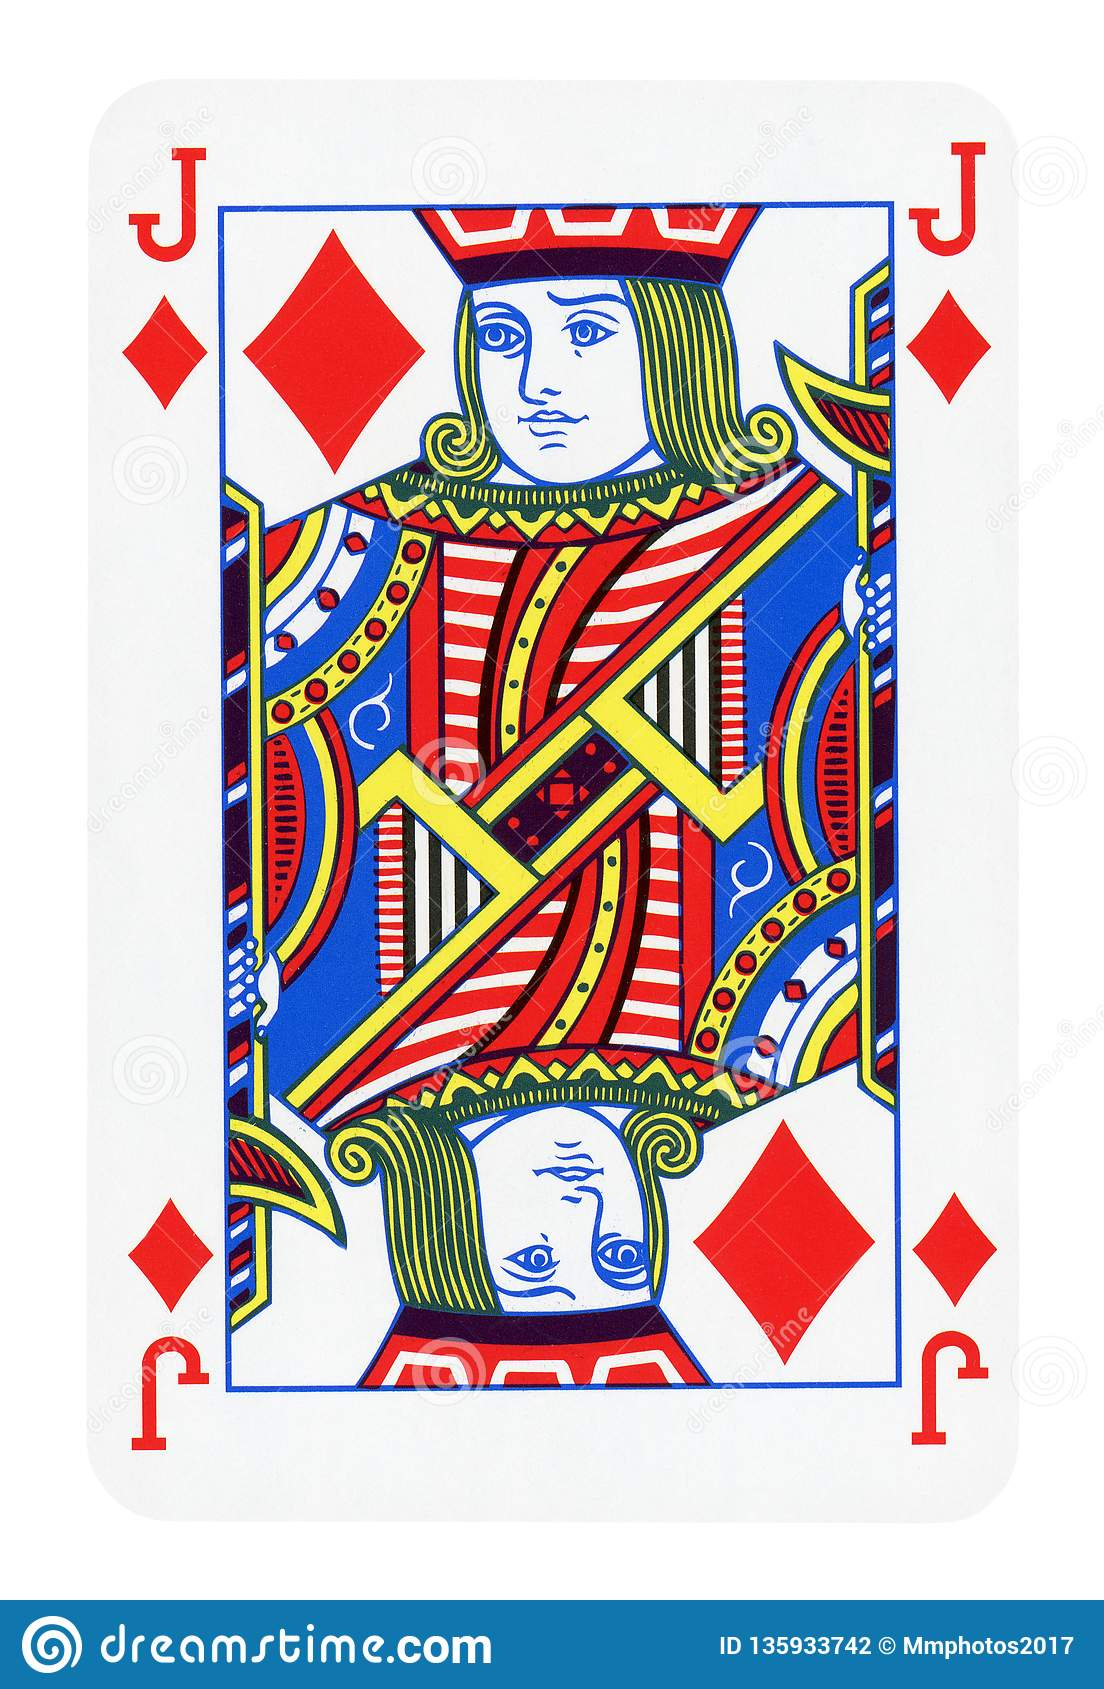jack of diamonds: (93, 94, 1026, 1517)
